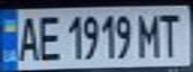1: (63, 11, 84, 60), (100, 11, 118, 60)
9: (78, 11, 100, 60), (115, 11, 136, 60)
A: (12, 12, 42, 63)
E: (33, 11, 63, 62)
M: (136, 10, 163, 58)
T: (154, 10, 187, 58)
